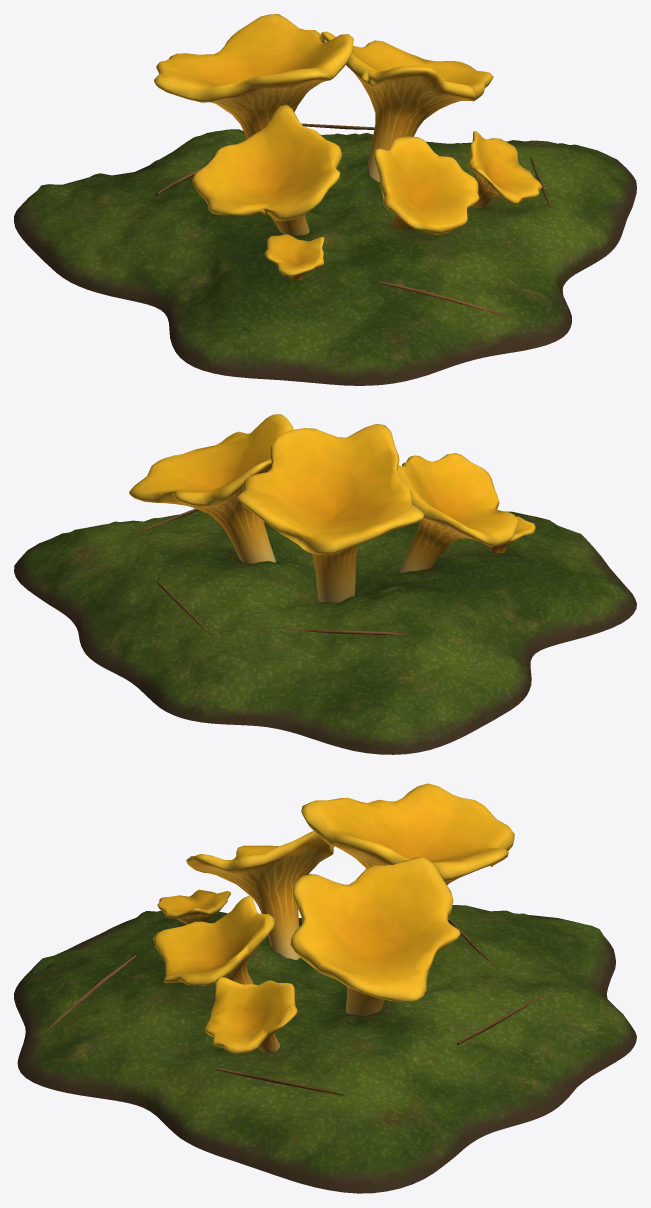
Rendered from Chanterelles.glb.
3 views of the same model, one above another, from view 1: azimuth 30°, elevation 25°; view 2: azimuth 150°, elevation 25°; view 3: azimuth 270°, elevation 25° (orthographic). The views are drawn at different scales.
Visible parts, largest first — view 1: chanterelle_cluster_lod1; view 2: chanterelle_cluster_lod1; view 3: chanterelle_cluster_lod1.
Boxes of the visible parts, x1,y1,x2,y2 form: chanterelle_cluster_lod1: [14, 14, 636, 385]; chanterelle_cluster_lod1: [14, 414, 636, 754]; chanterelle_cluster_lod1: [14, 783, 636, 1193].
Size of the model in its own units: 0.204 by 0.0727 by 0.1935.
1 material, 1 textured.
